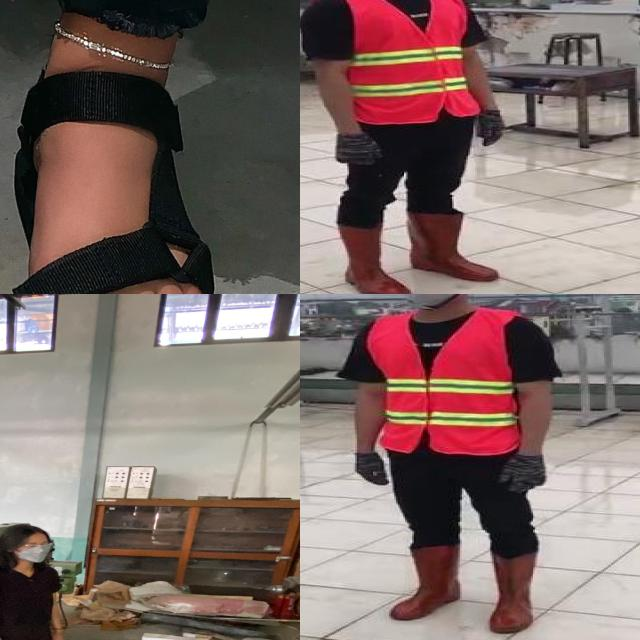Sandals: (10, 0, 224, 294)
boots: (325, 213, 414, 294), (409, 210, 509, 282), (388, 543, 463, 621), (486, 549, 544, 633)
face_mask: (16, 538, 54, 564), (386, 294, 459, 305)
glasses: (16, 542, 56, 550)
hand_glove: (497, 454, 549, 496), (320, 136, 392, 166), (470, 108, 505, 146), (356, 453, 394, 485)
hand_noglove: (46, 634, 68, 640)
head_nohelmet: (0, 521, 50, 540)
person: (340, 294, 560, 639), (300, 0, 515, 294), (0, 519, 86, 640)
vest: (366, 307, 520, 454), (316, 0, 480, 125)
